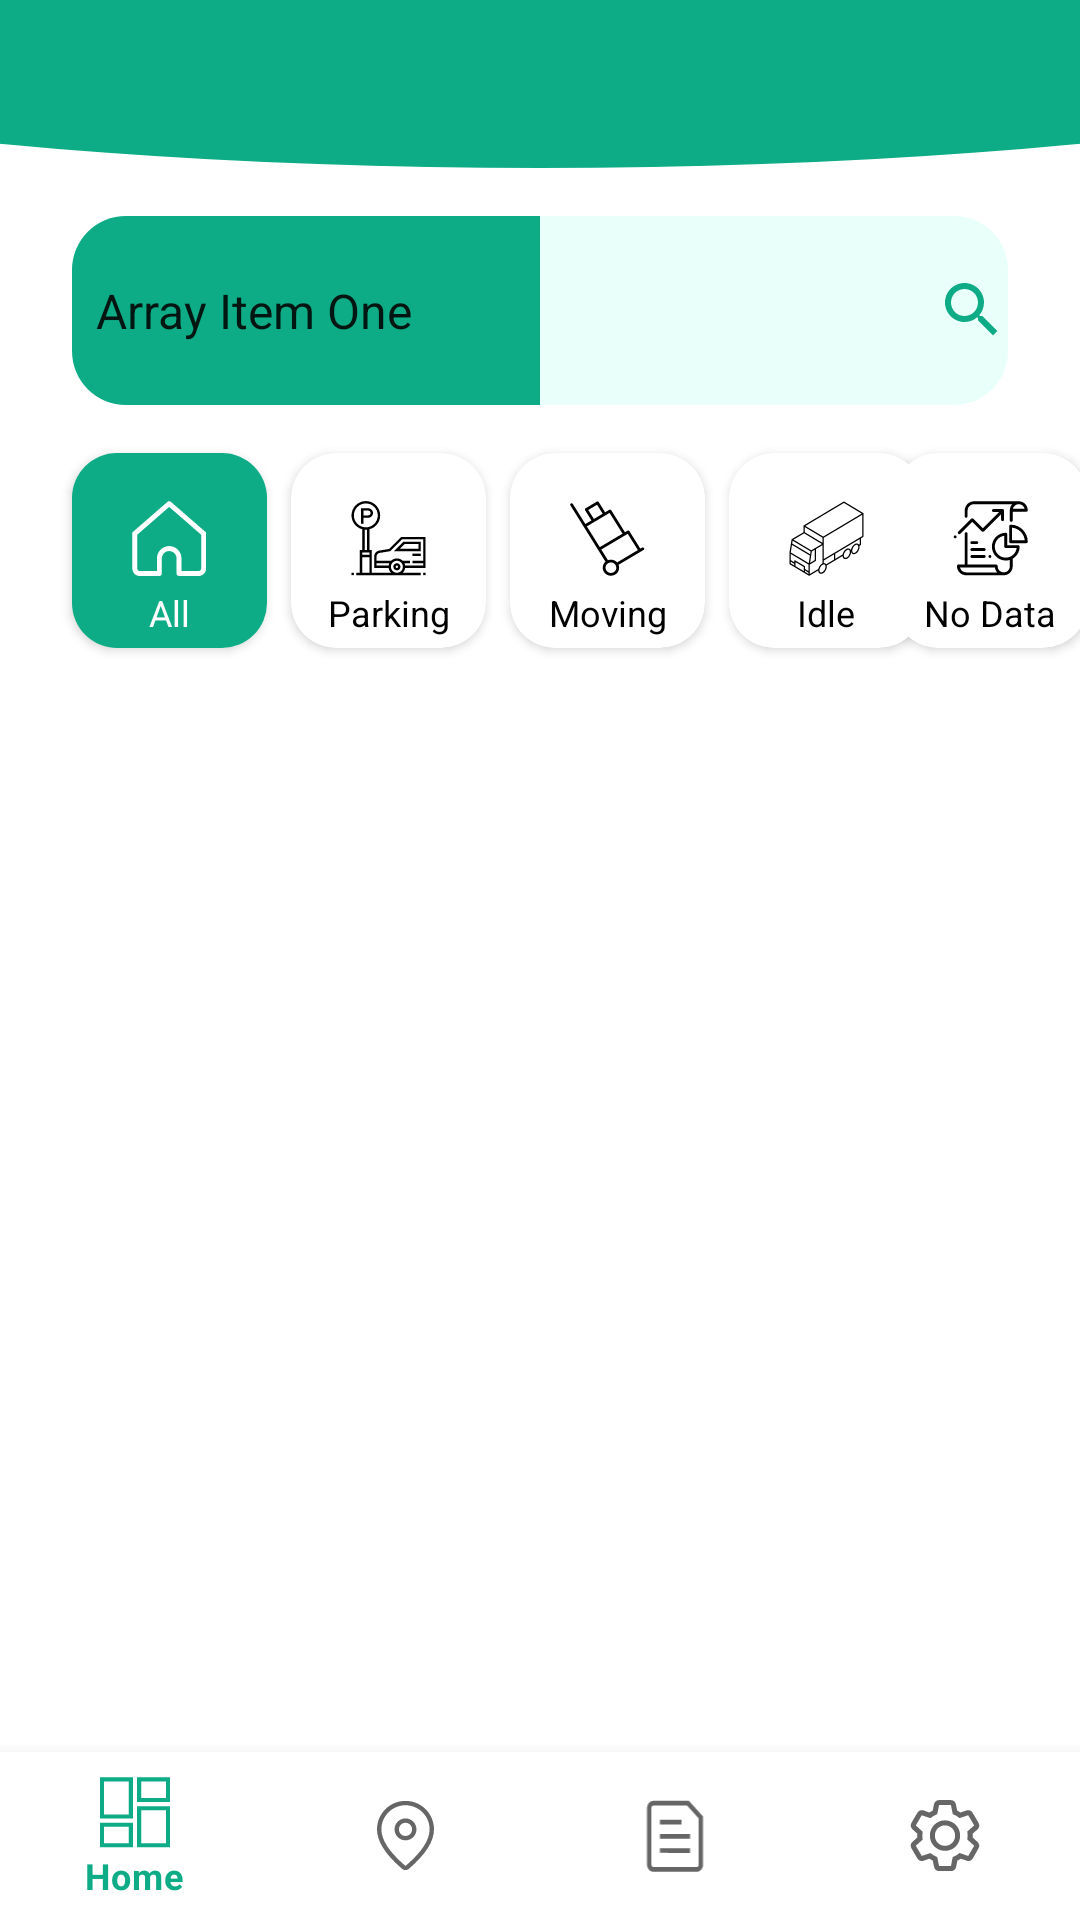

Locate icon controls on the screen. Image size 1080 x 1920, boxes as (x1, y1, x2, y2).
home: (132, 501, 206, 576)
